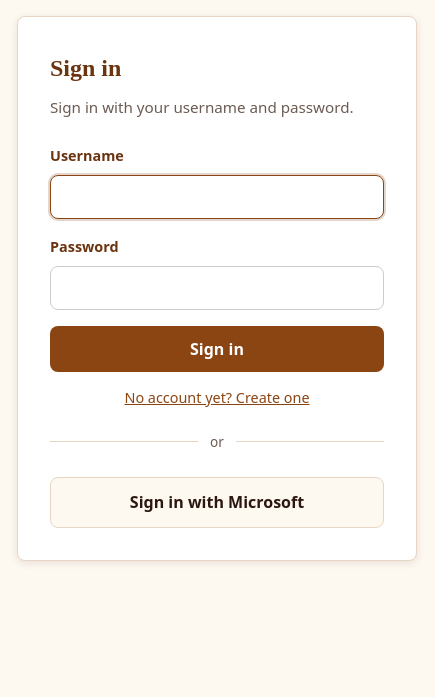
Scenario: LoginPage — create account › switches back to sign in
Click the button "No account yet? Create one". click: (217, 397)
box: [50,388,384,407]
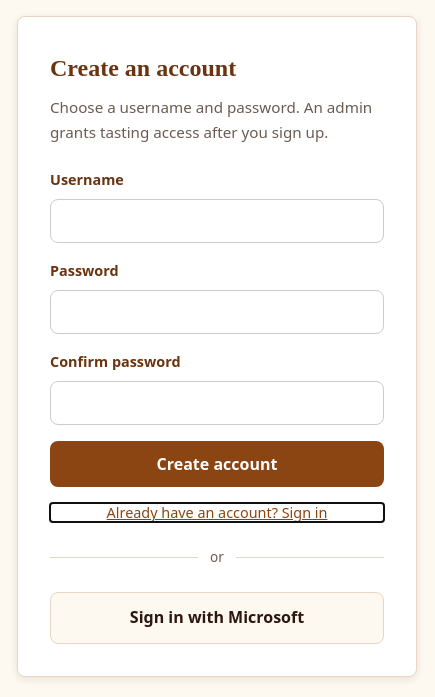
Click the button "Already have an account? Sign in". click: (217, 513)
box: [50,503,384,522]
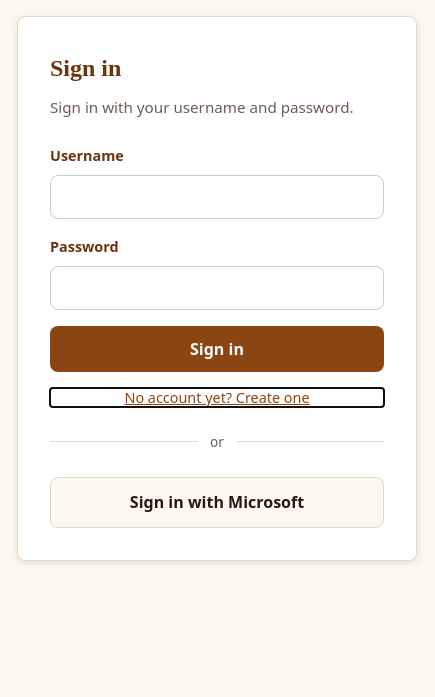
Expected: the label labelled "Confirm password" is gone
